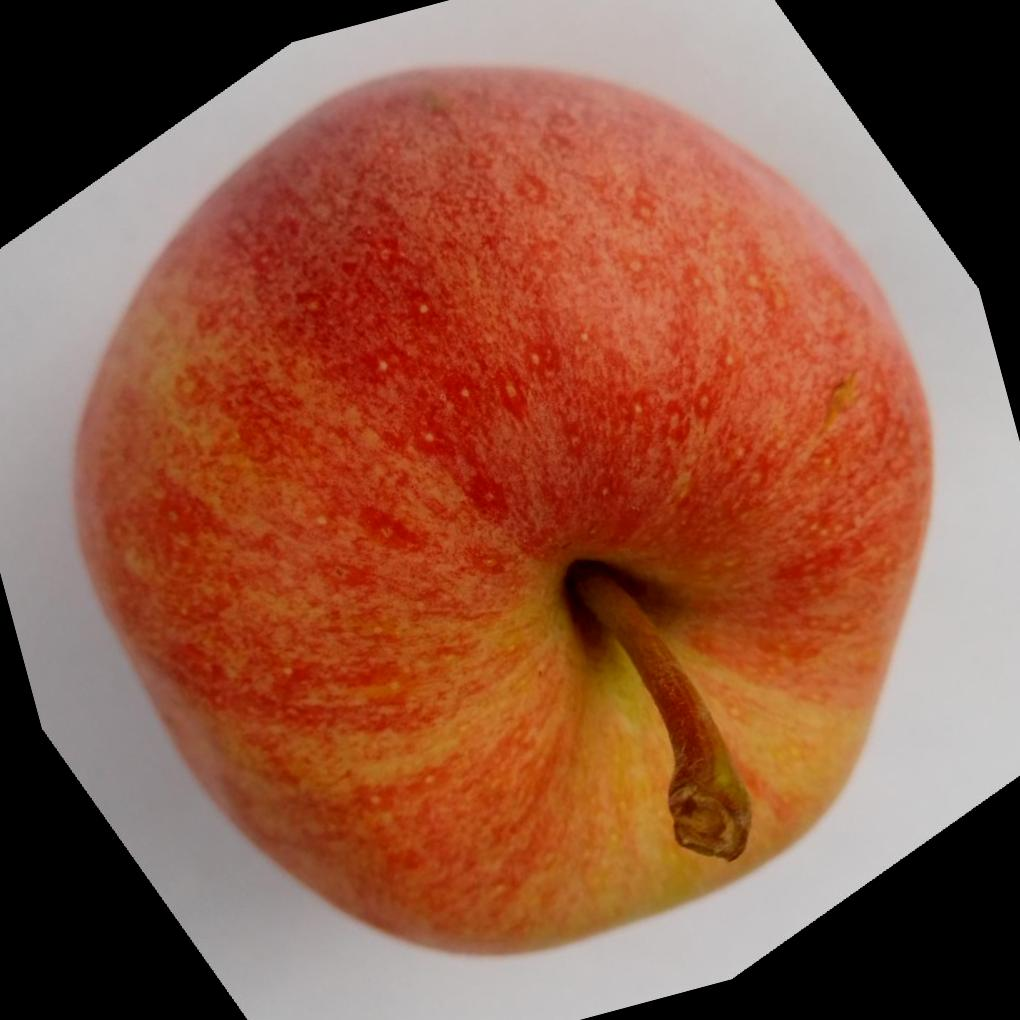FreshGuava: (69, 52, 939, 955)
